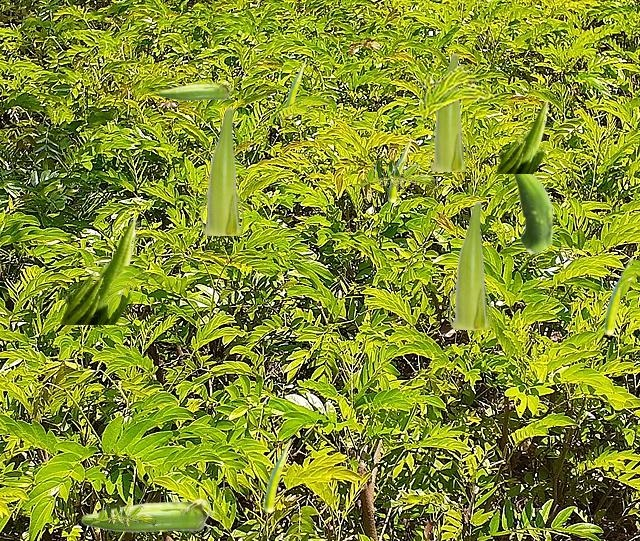okra: (59, 217, 138, 323), (448, 201, 490, 328), (200, 107, 242, 234), (428, 53, 466, 170), (81, 498, 213, 531), (495, 99, 549, 172), (511, 173, 553, 253), (604, 256, 632, 335), (264, 438, 290, 511), (388, 139, 410, 201), (158, 81, 232, 99), (285, 59, 305, 116)
